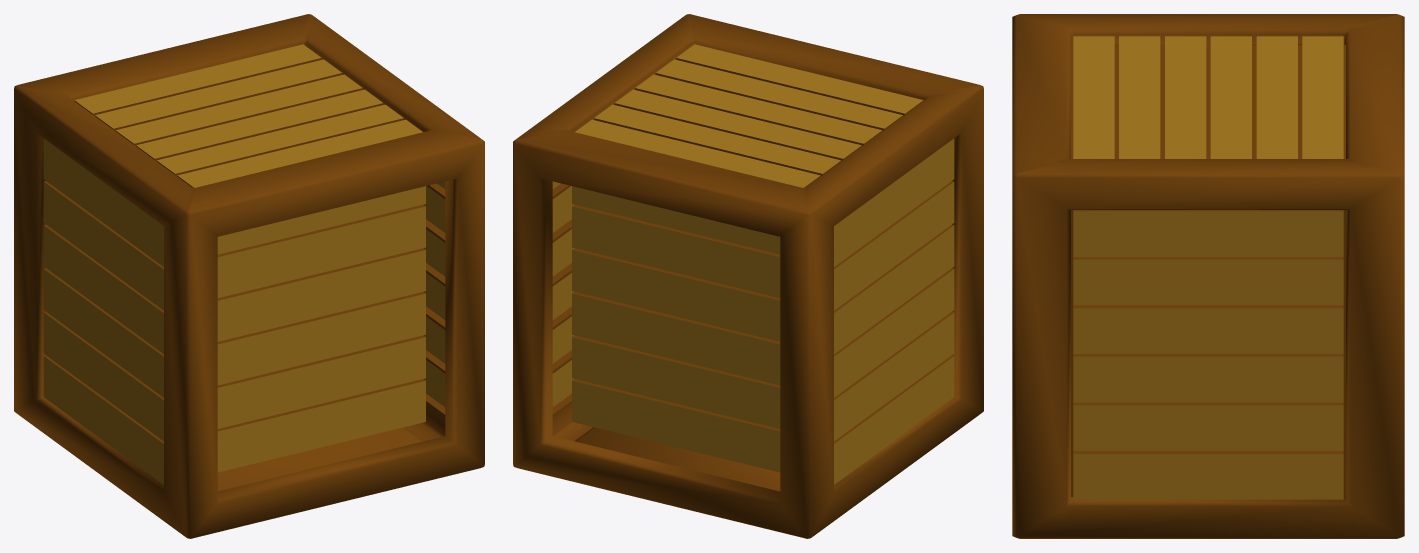
The model's file is Caixa.fbx.
The picture shows the model from 3 angles, left to right: view 1: azimuth 30°, elevation 25°; view 2: azimuth 150°, elevation 25°; view 3: azimuth 270°, elevation 25°; orthographic projection. The views are drawn at different scales.
Visible parts, largest first — view 1: caixa; view 2: caixa; view 3: caixa.
Boxes of the visible parts, x1=… form: caixa: x1=14, y1=14, x2=484, y2=538; caixa: x1=513, y1=14, x2=983, y2=538; caixa: x1=1012, y1=14, x2=1404, y2=538.
Size of the model in its own units: 54.5 by 57.23 by 55.71.
